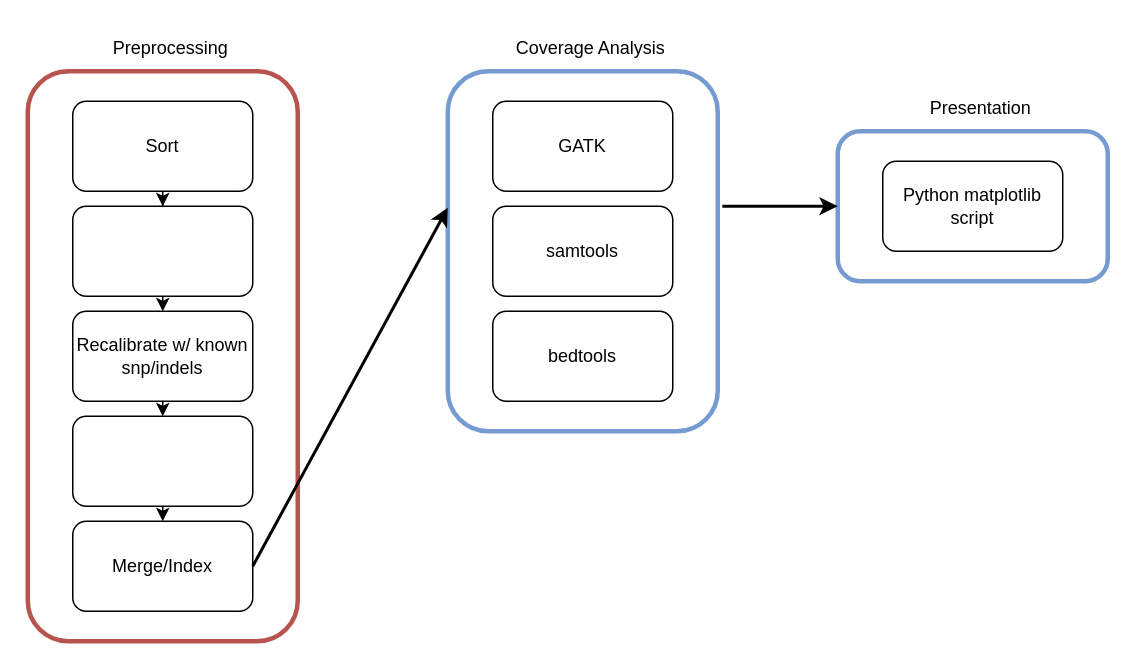
The diagram is 1136 pixels wide and 669 high, and some of its shapes have lost their labels. Each missing label, with the centre of its shape:
"Fixmates" belongs at point (162, 250).
"Mark Duplicates" belongs at point (162, 460).
